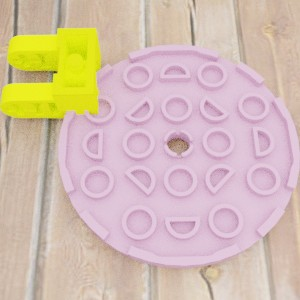lego: (58, 44, 300, 268), (0, 27, 101, 118)
